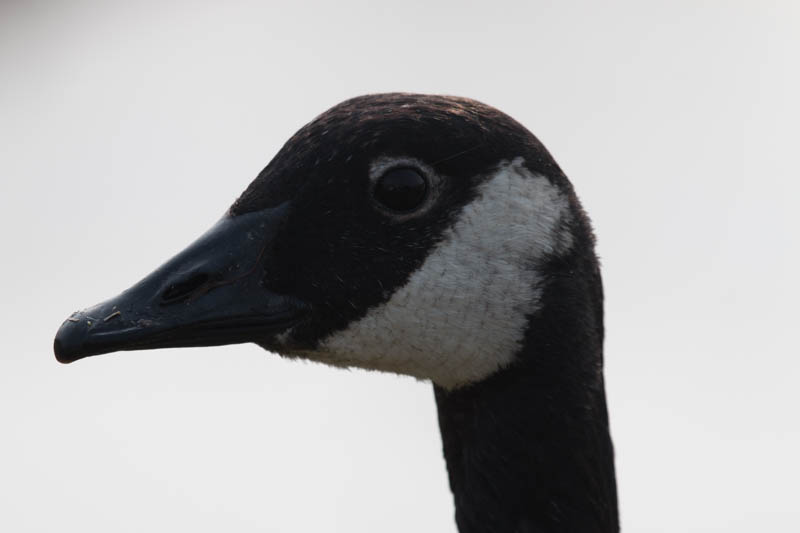goose-head: (54, 93, 605, 389)
